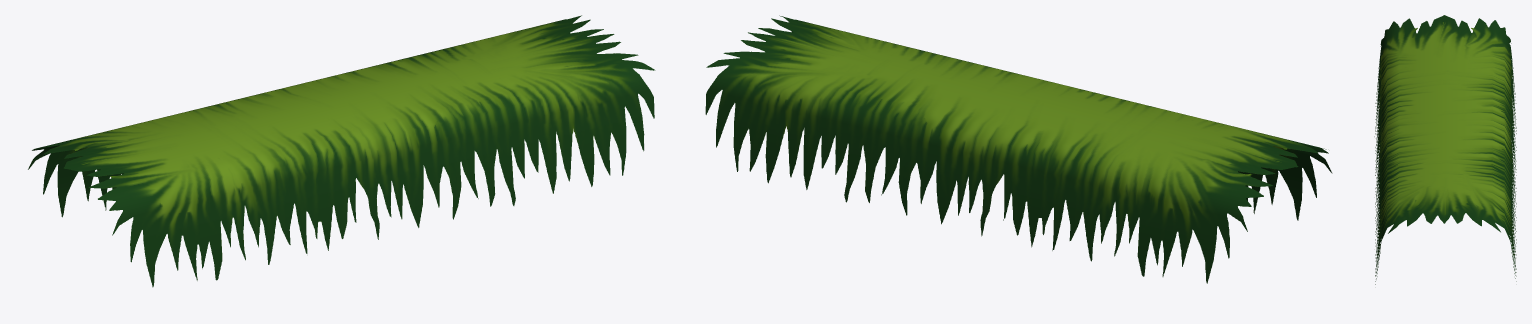
File: WallTopGrass.FBX
3 renders of one model, left to right at view 1: azimuth 30°, elevation 25°; view 2: azimuth 150°, elevation 25°; view 3: azimuth 270°, elevation 25°, orthographic. The views are drawn at different scales.
Visible parts, largest first — view 1: WallTopGrass; view 2: WallTopGrass; view 3: WallTopGrass.
Boxes of the visible parts, box(x1,y1,x2,y2) form: WallTopGrass: box(28, 15, 655, 287); WallTopGrass: box(705, 15, 1332, 283); WallTopGrass: box(1374, 15, 1516, 284).
Size of the model in its own units: 197 by 36.31 by 56.1.
